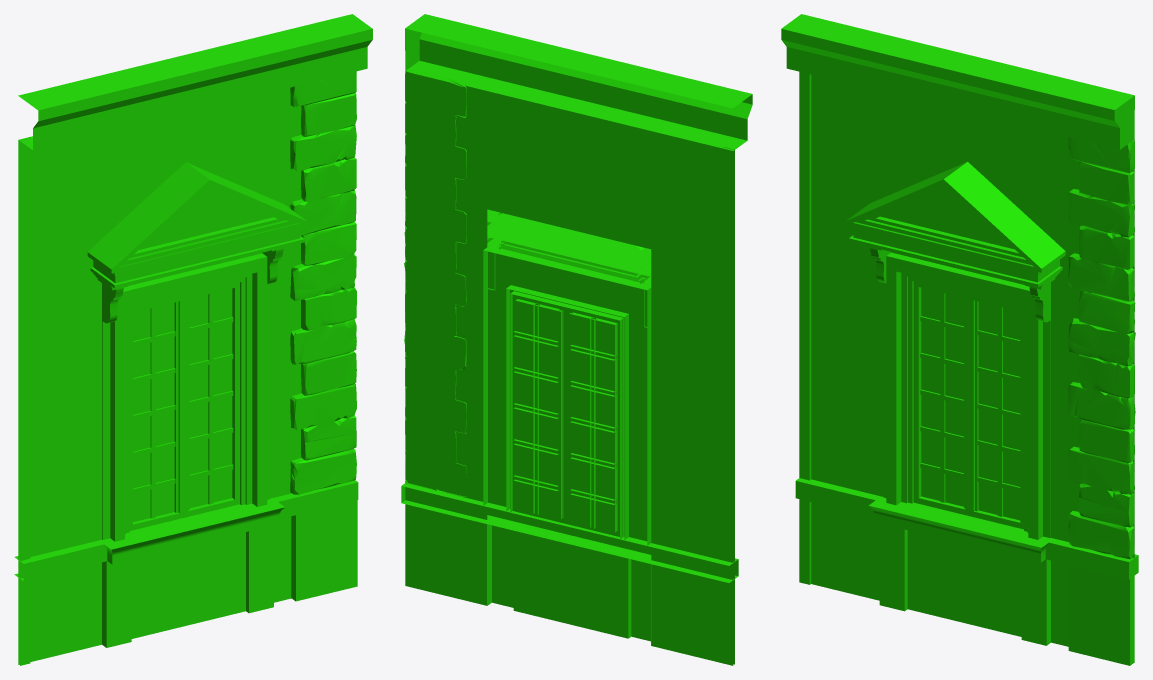
Rendered from SM_JShouse_3F_R.fbx.
3 renders of one model, left to right at view 1: azimuth 30°, elevation 25°; view 2: azimuth 150°, elevation 25°; view 3: azimuth 330°, elevation 25°, orthographic. The views are drawn at different scales.
Visible parts, largest first — view 1: SM_JShouse_R; view 2: SM_JShouse_R; view 3: SM_JShouse_R.
Part boxes in pixels (<box>): SM_JShouse_R: <box>14,14,372,665</box>; SM_JShouse_R: <box>401,14,752,665</box>; SM_JShouse_R: <box>781,14,1138,665</box>.
Bounding box in the file's own units: 320 × 520 × 49.48.
